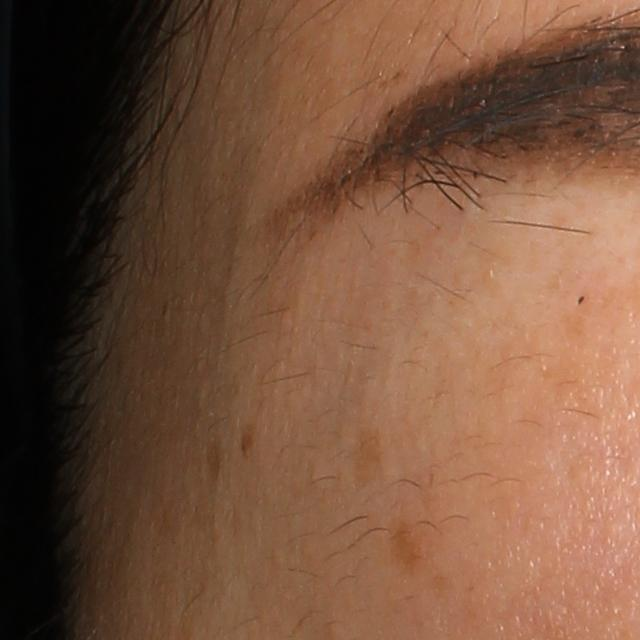melasma: (353, 426, 391, 485)
